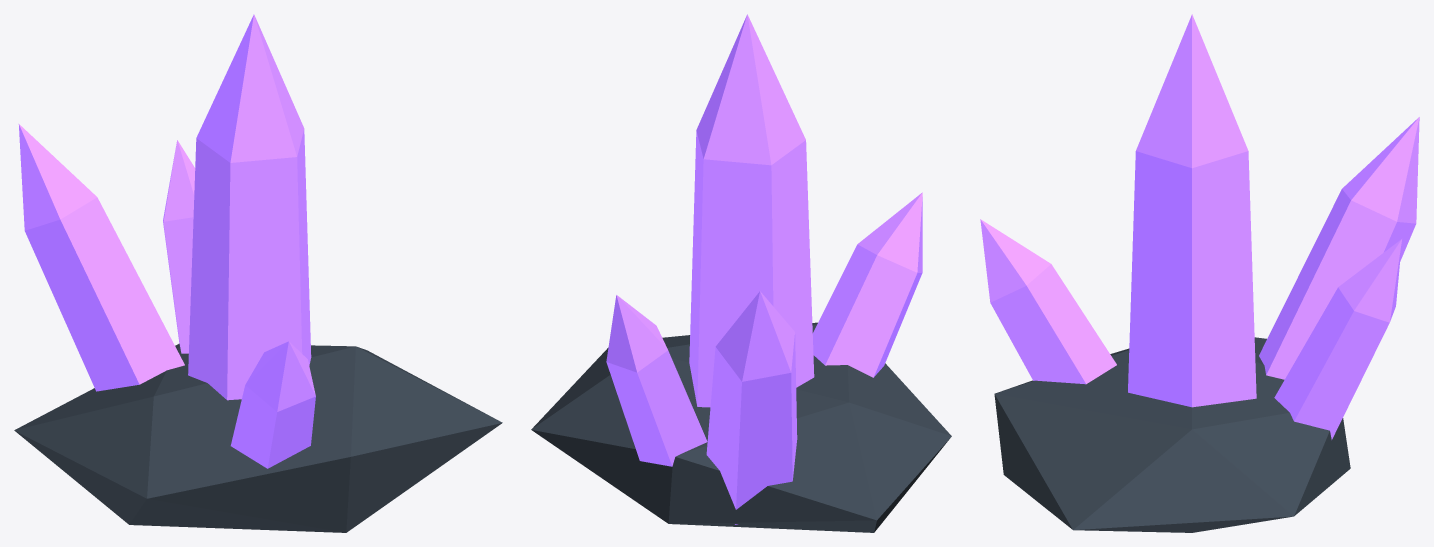
The model's file is crystal-cluster-3.glb.
3 views of the same model, side by side, from view 1: azimuth 30°, elevation 25°; view 2: azimuth 150°, elevation 25°; view 3: azimuth 270°, elevation 25° (orthographic). The views are drawn at different scales.
Visible parts, largest first — view 1: crystal_cluster_3; view 2: crystal_cluster_3; view 3: crystal_cluster_3.
Boxes of the visible parts, left/top/right/bottom form: crystal_cluster_3: left=14, top=14, right=502, bottom=532; crystal_cluster_3: left=531, top=14, right=951, bottom=532; crystal_cluster_3: left=980, top=14, right=1419, bottom=532.
Bounding box in the file's own units: 0.8355 × 1.02 × 0.8316.
